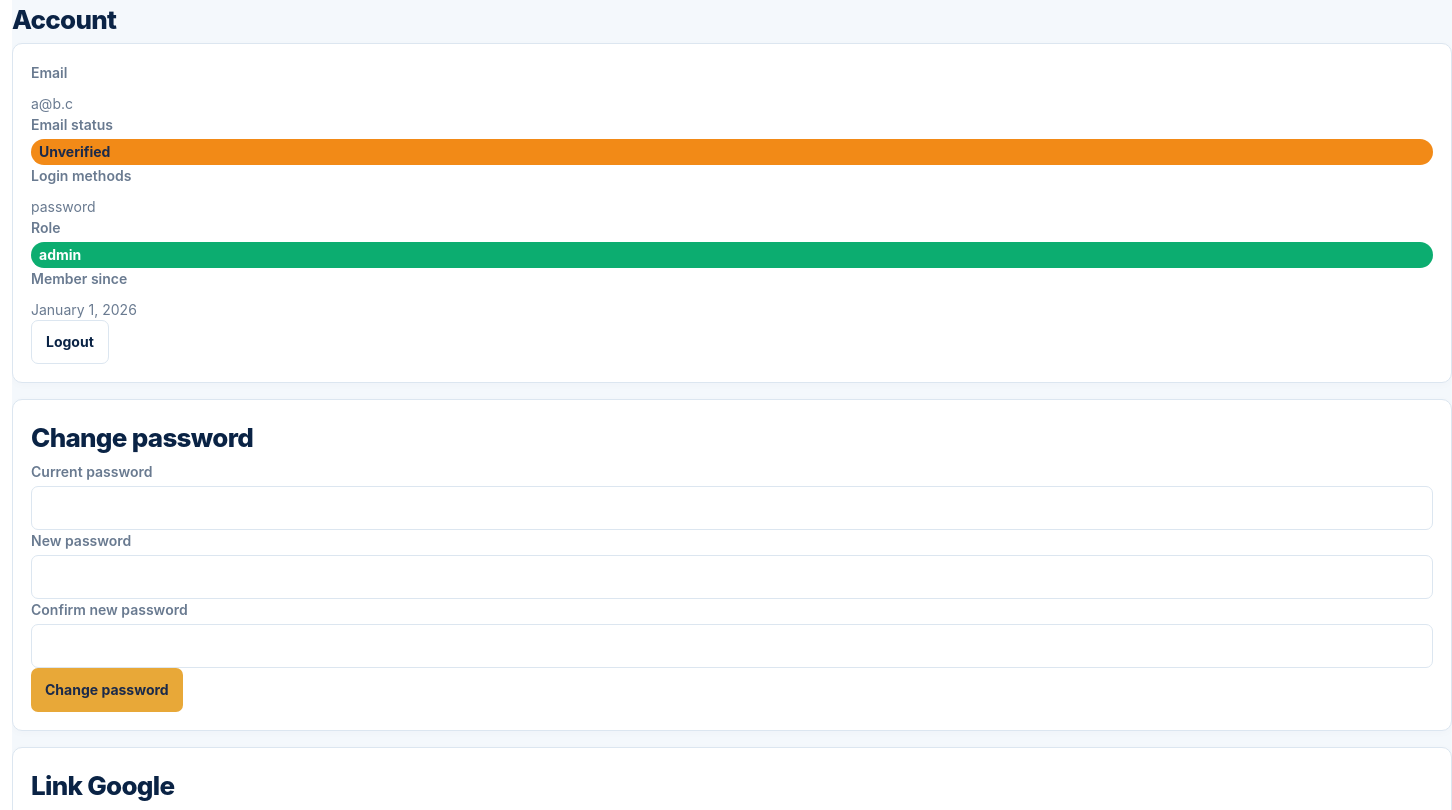
it: AccountPage › shows a generic message for other failures
The image size is (1452, 810).
Expected: the text "a@b.c" is shown, x1=31 y1=95 x2=73 y2=112
Type "old" into the password field labelled "Current password" at coordinates (732, 508), box x1=31 y1=486 x2=1433 y2=530
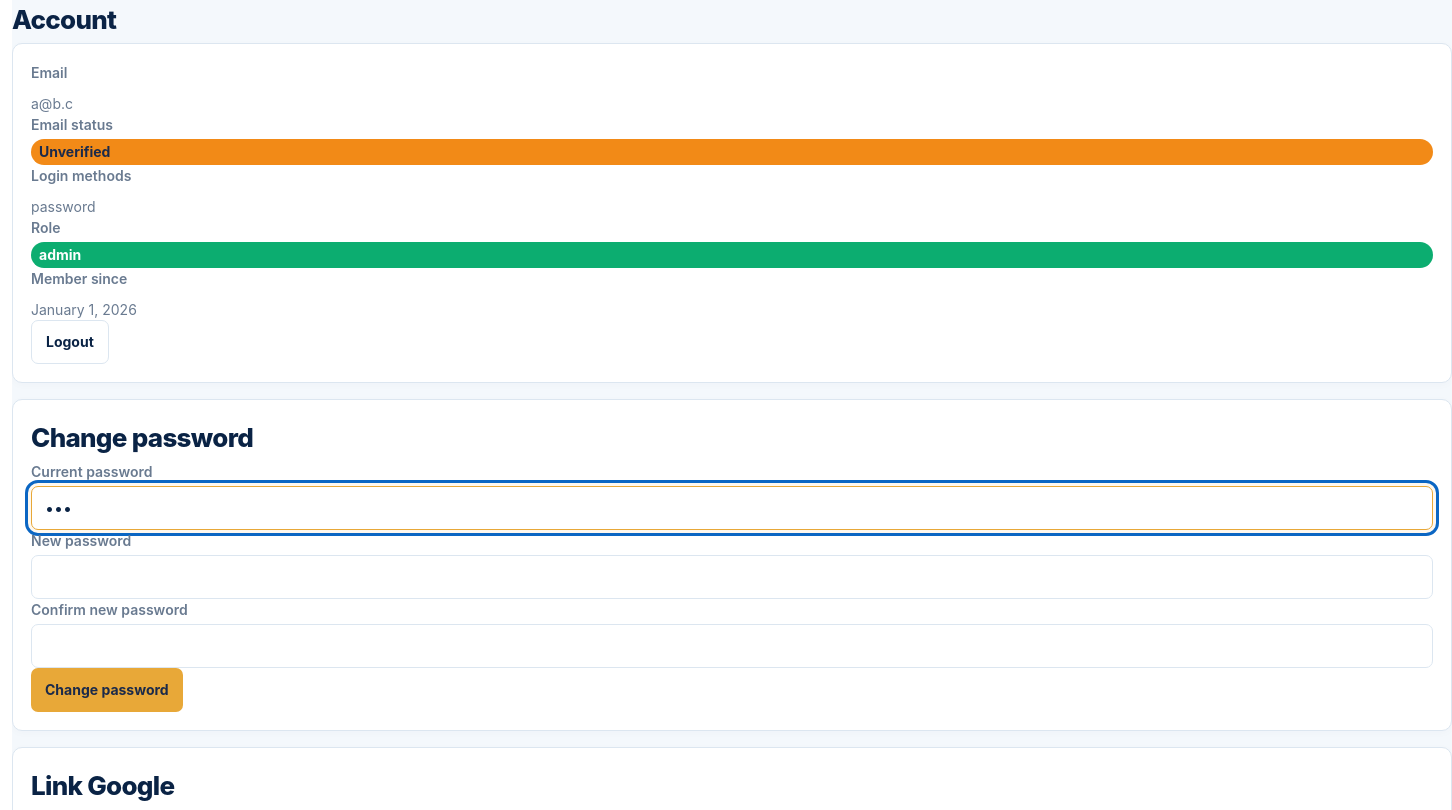
Type "new1" into the password field labelled "New password" at coordinates (732, 577), box x1=31 y1=555 x2=1433 y2=599
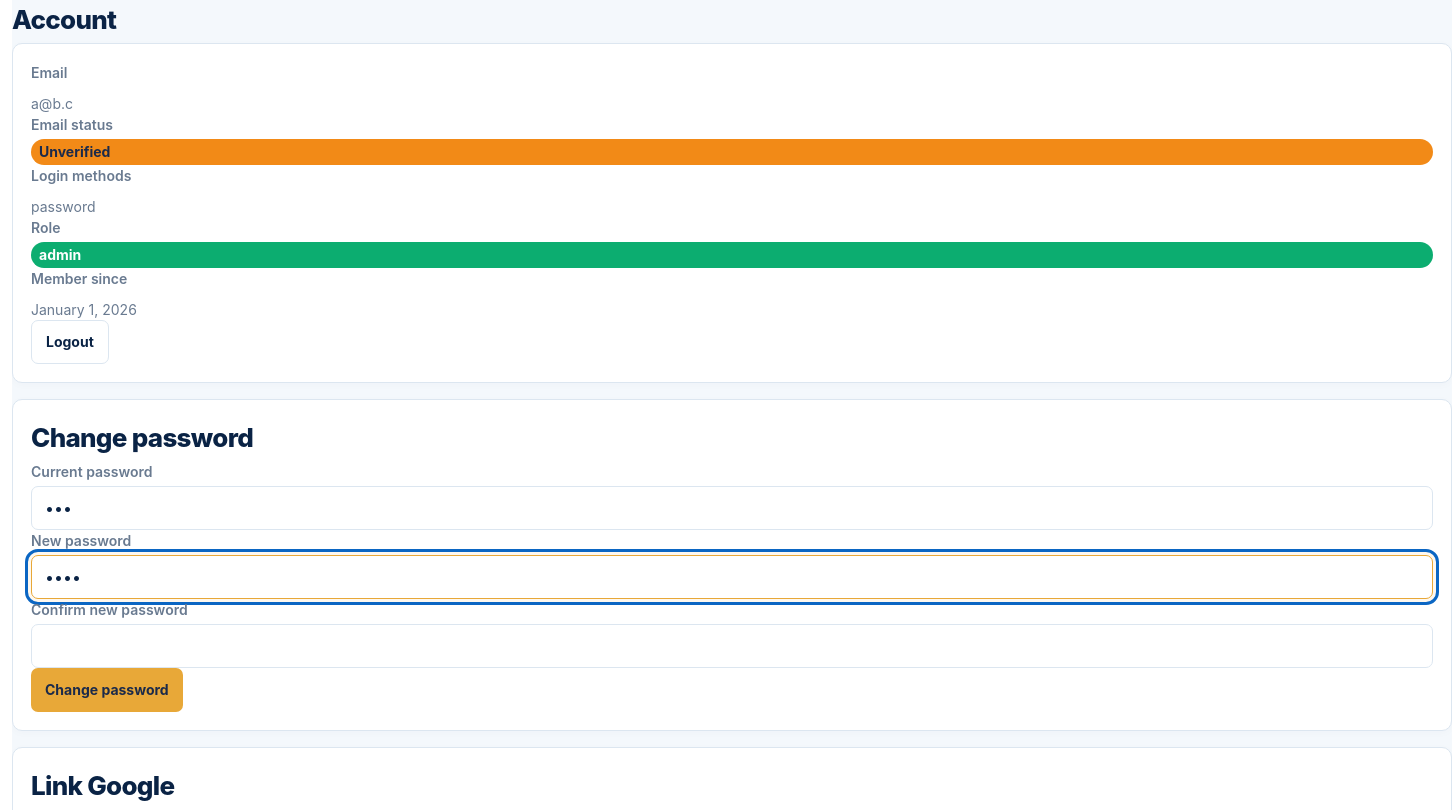
Type "new1" into the password field labelled "Confirm new password" at coordinates (732, 646), box x1=31 y1=624 x2=1433 y2=668
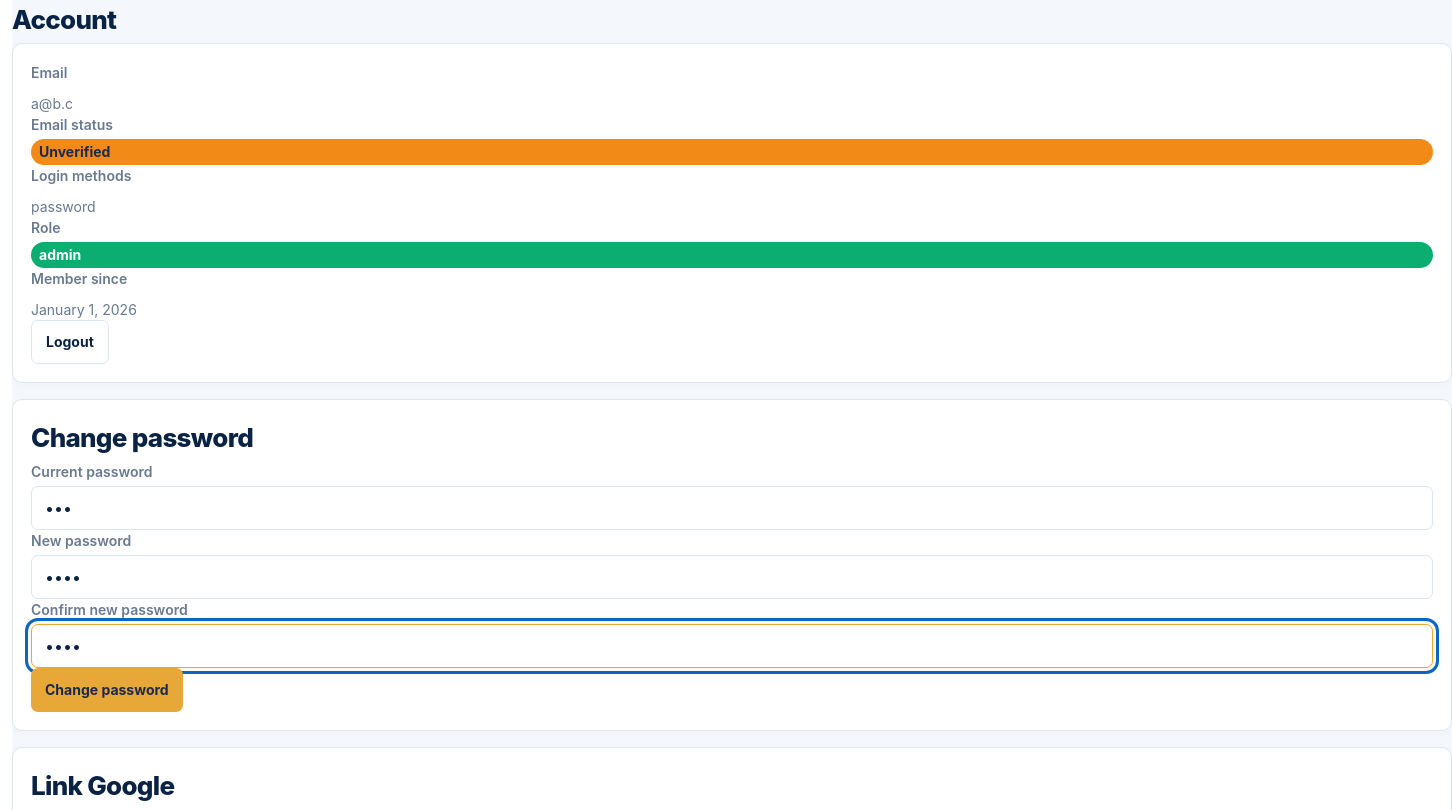
Click the button "Change password" at coordinates (107, 690), box x1=31 y1=668 x2=183 y2=712
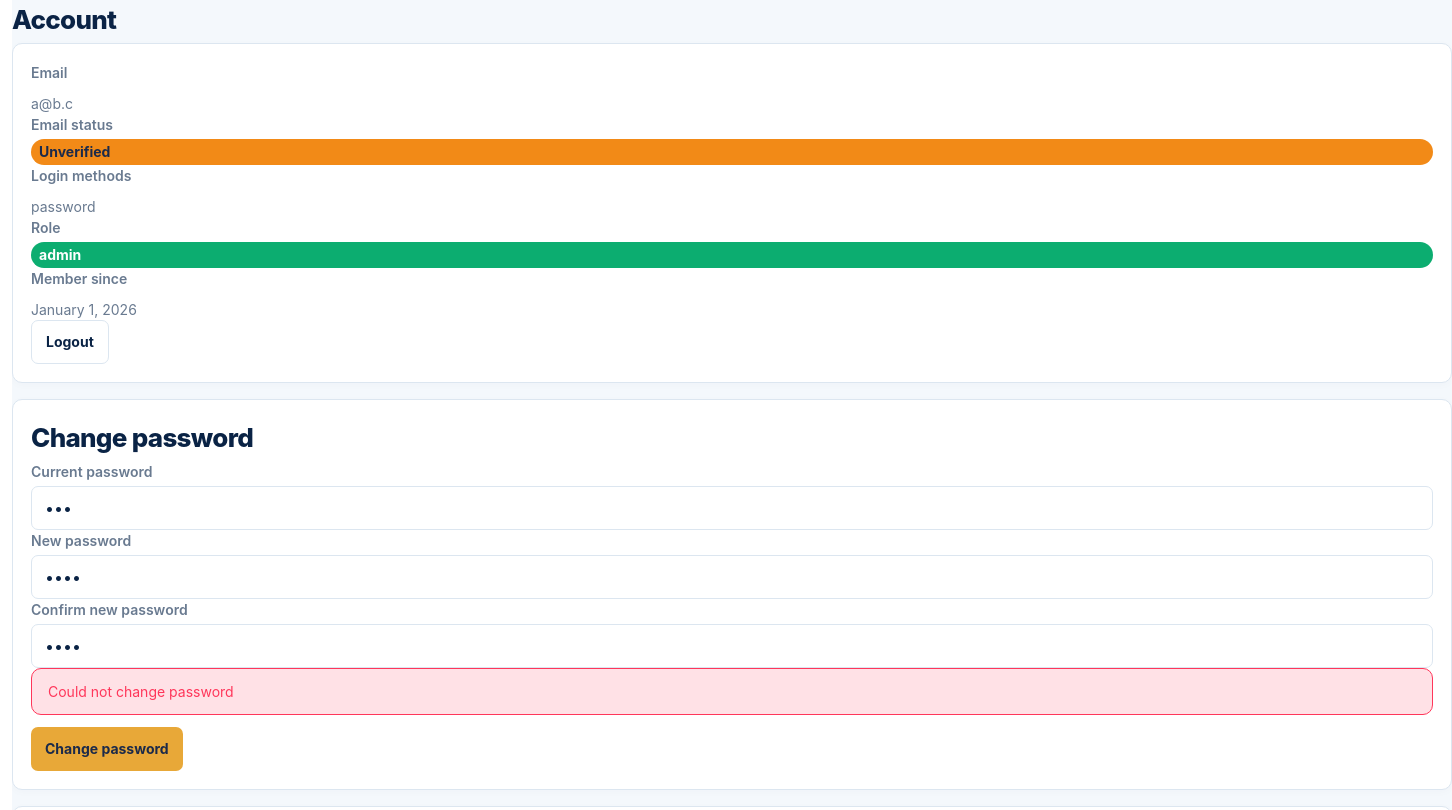
Result: the text "Could not change password" is shown at x1=31 y1=668 x2=1433 y2=715
